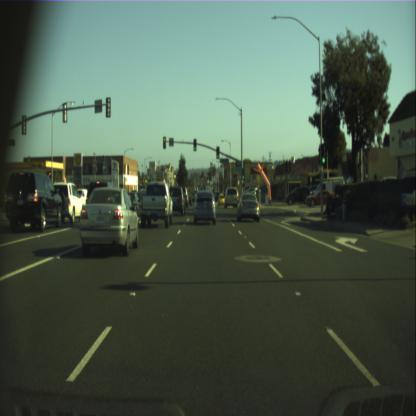Green: (321, 144, 326, 165), (192, 138, 196, 150), (216, 146, 219, 159), (242, 168, 245, 180)
Red: (162, 136, 166, 149)
